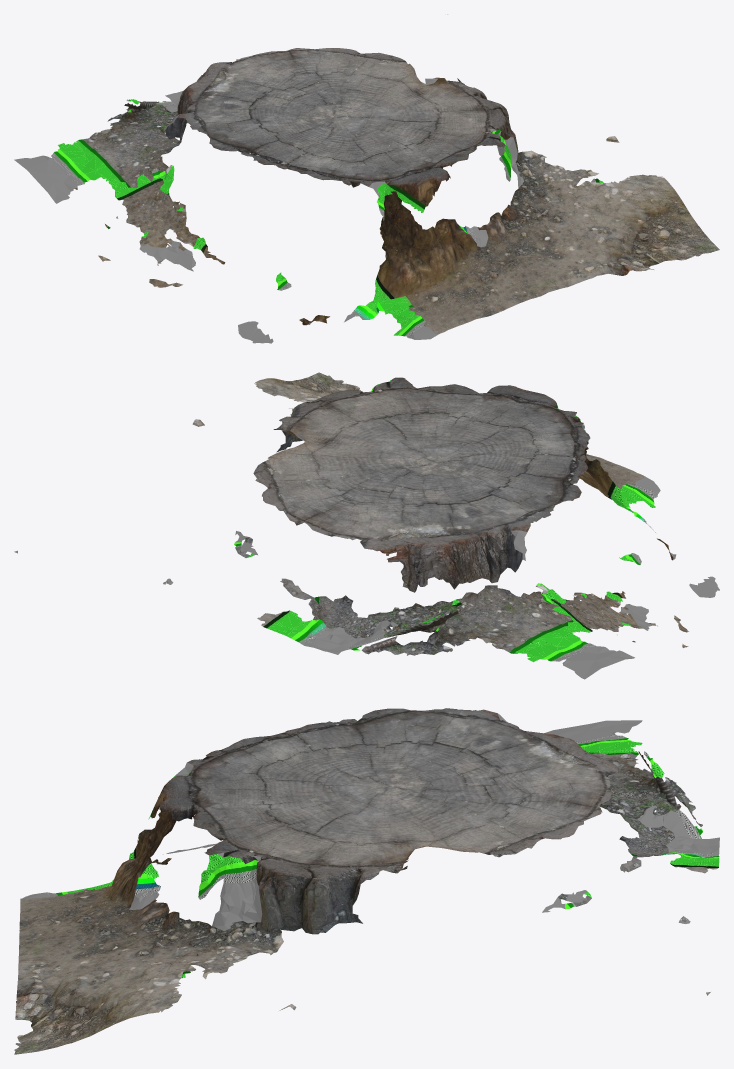
File: stump2.glb
3 views of the same model, one above another, from view 1: azimuth 30°, elevation 25°; view 2: azimuth 150°, elevation 25°; view 3: azimuth 270°, elevation 25° (orthographic). The views are drawn at different scales.
Visible parts, largest first — view 1: Object_3; view 2: Object_3; view 3: Object_3.
Part boxes in pixels (box(x1,y1,x2,y2)): Object_3: box(14, 14, 719, 343); Object_3: box(14, 372, 719, 679); Object_3: box(14, 708, 719, 1054).
Size of the model in its own units: 0.8999 by 0.2456 by 0.9.
Materials: 1 (1 with a texture image).
